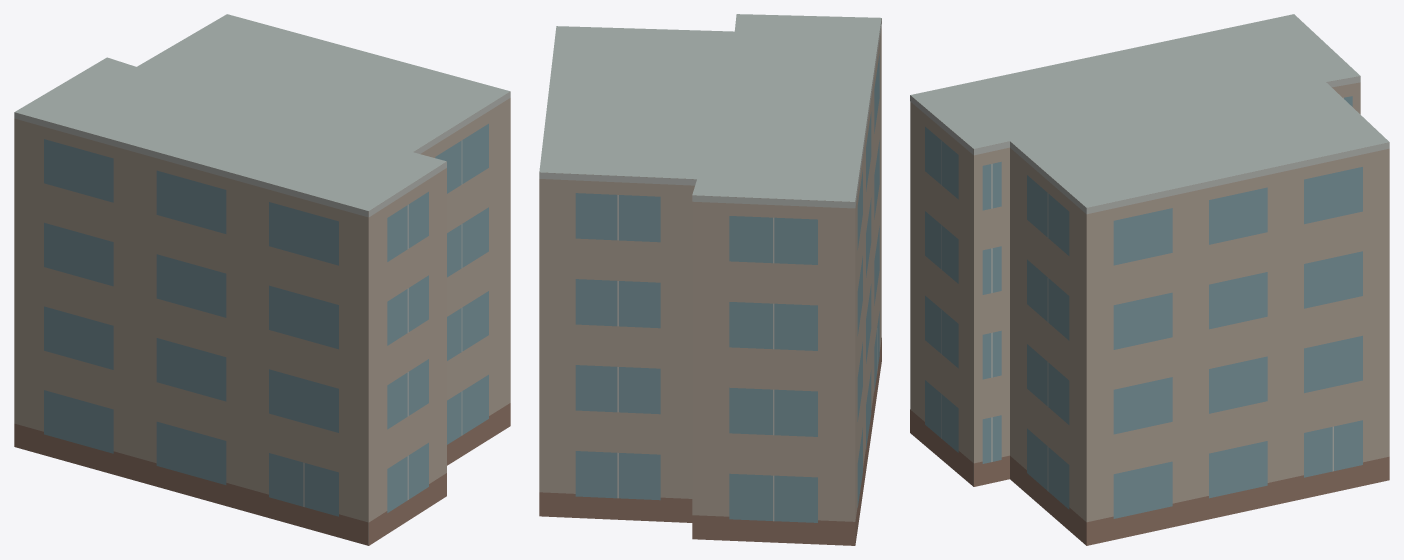
The model's file is survey-upis-32959260.glb.
The picture shows the model from 3 angles, left to right: view 1: azimuth 30°, elevation 25°; view 2: azimuth 150°, elevation 25°; view 3: azimuth 270°, elevation 25°; orthographic projection. The views are drawn at different scales.
Visible parts, largest first — view 1: survey-upis-32959260.tmp; view 2: survey-upis-32959260.tmp; view 3: survey-upis-32959260.tmp.
Boxes of the visible parts, left/top/right/bottom form: survey-upis-32959260.tmp: left=14, top=14, right=510, bottom=545; survey-upis-32959260.tmp: left=539, top=14, right=881, bottom=545; survey-upis-32959260.tmp: left=910, top=14, right=1389, bottom=545.
Size of the model in its own units: 15.95 by 12.95 by 16.66.
